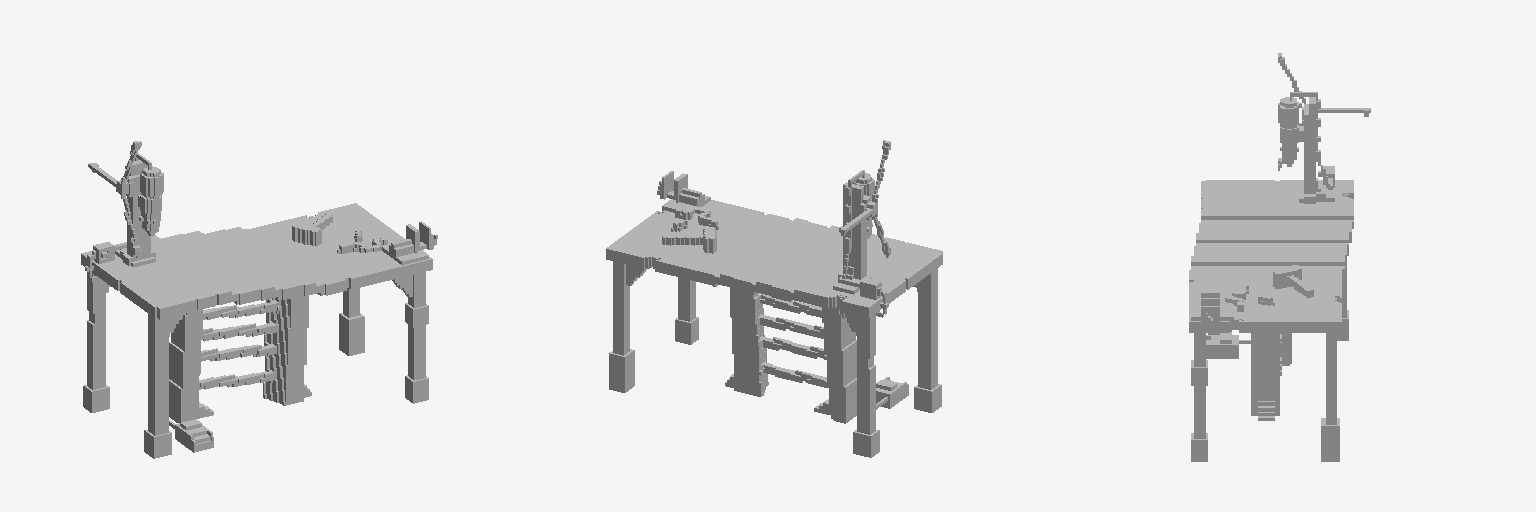
The model's file is workbench_handmade.obj.
3 renders of one model, left to right at view 1: azimuth 30°, elevation 25°; view 2: azimuth 150°, elevation 25°; view 3: azimuth 270°, elevation 25°, orthographic.
Parts seen in each view (by area): view 1: Mesh1 Model; view 2: Mesh1 Model; view 3: Mesh1 Model.
Boxes of the visible parts, <box> form: Mesh1 Model: <box>81,141,437,458</box>; Mesh1 Model: <box>606,140,942,457</box>; Mesh1 Model: <box>1189,53,1370,461</box>.
Bounding box in the file's own units: 2.05 × 1.93 × 1.12.